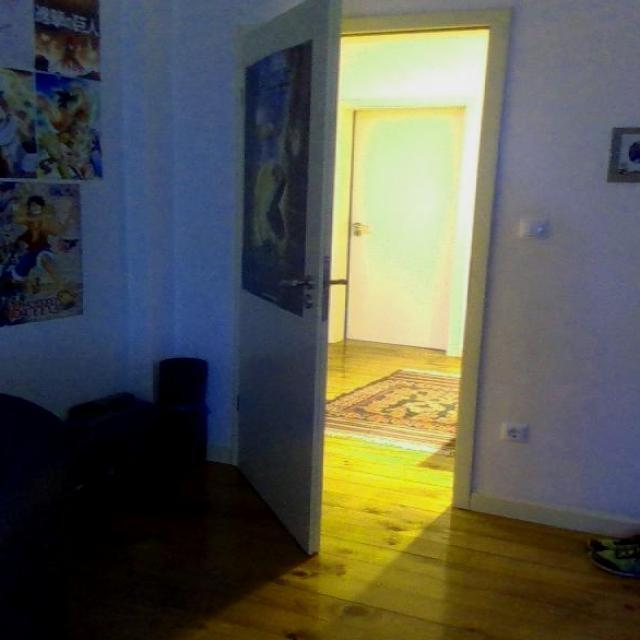door: (223, 0, 360, 562)
